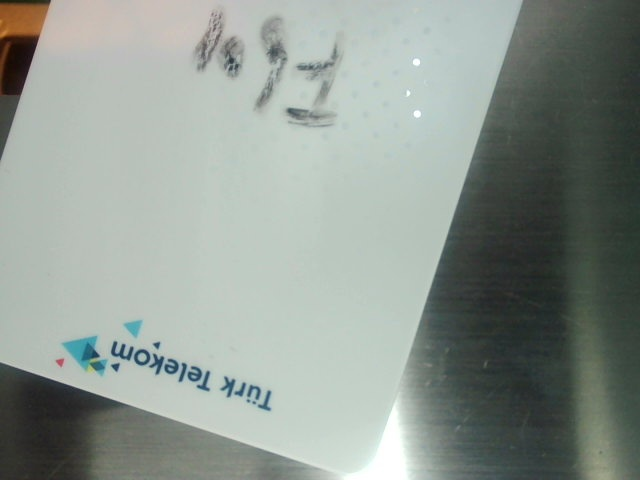AQ_TURKTelekom: (44, 311, 285, 414)
